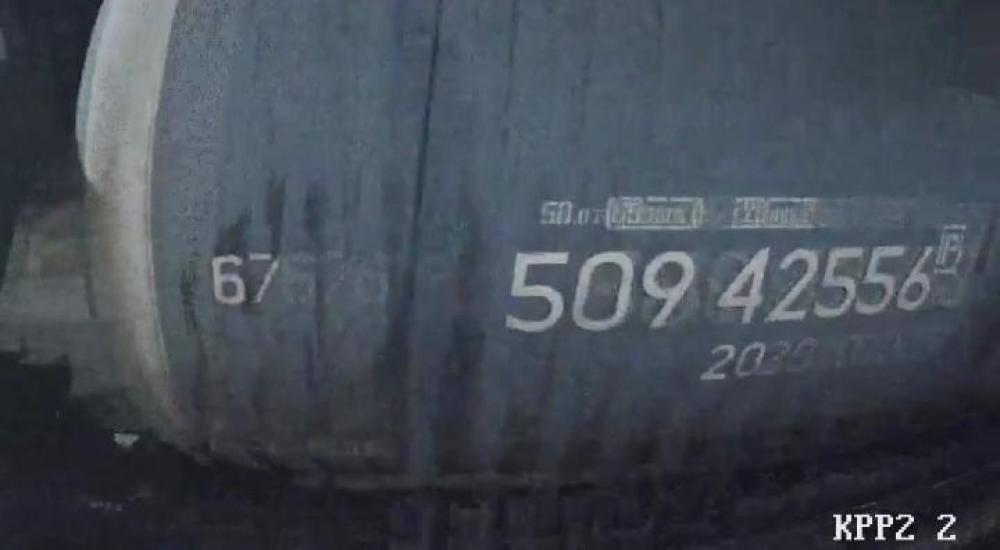Wagon-number: (499, 239, 938, 338)
